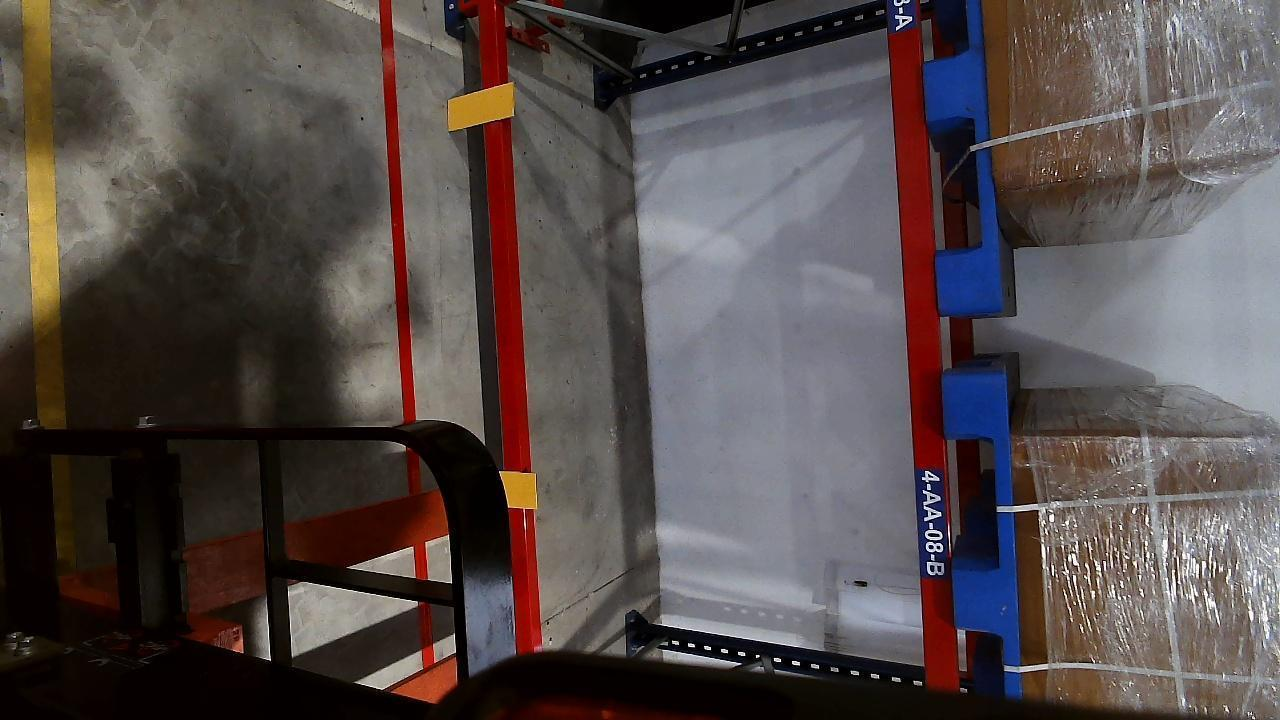red_line: (378, 0, 418, 425)
yellow_line: (18, 1, 66, 428)
